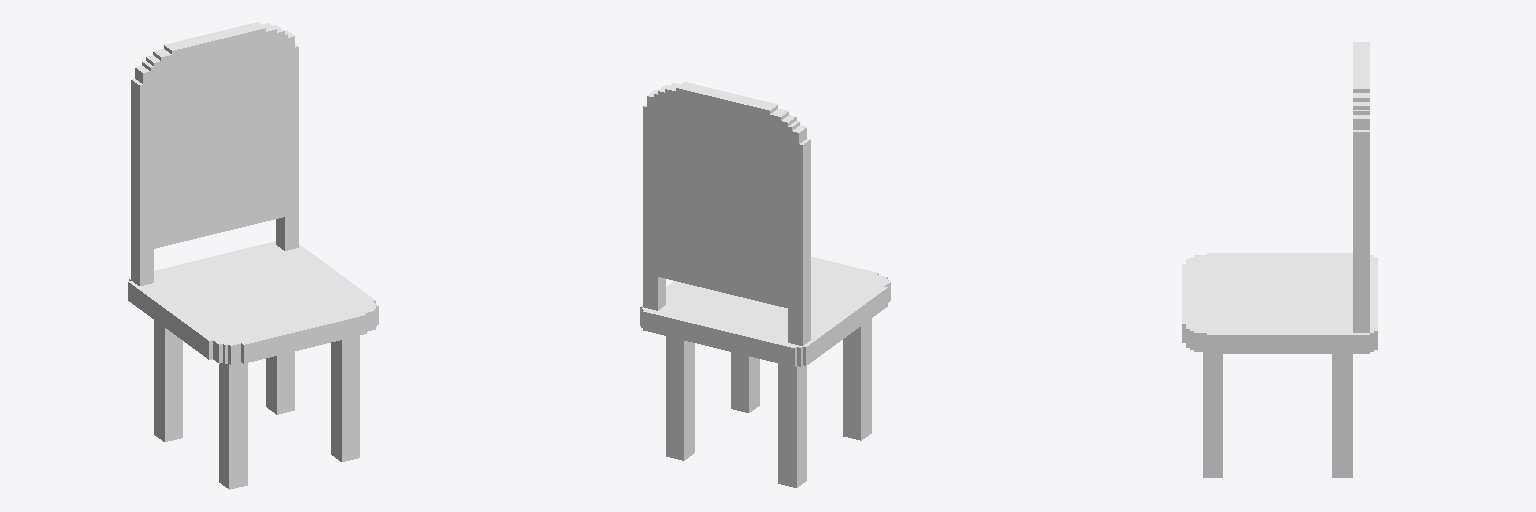
Rendered from CadeiraDeMadeira.obj.
3 renders of one model, left to right at view 1: azimuth 30°, elevation 25°; view 2: azimuth 150°, elevation 25°; view 3: azimuth 270°, elevation 25°, orthographic.
Parts seen in each view (by area): view 1: object 1; view 2: object 1; view 3: object 1.
Boxes of the visible parts, box(x1,y1,x2,y2) form: object 1: box(128, 22, 378, 489); object 1: box(640, 82, 890, 487); object 1: box(1182, 42, 1377, 477).
Bounding box in the file's own units: 4.6 × 10 × 4.7.